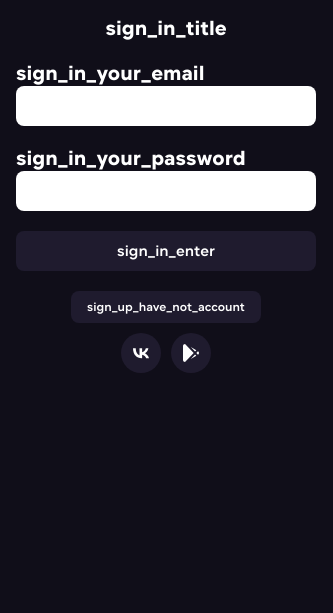
Test: Test Auth Form › check correct title after switch state
Expected: the heading "sign_in_title" is shown, [105, 16, 227, 40]
Click the button with test id "auth-switch-form-btn".
click(166, 307)  # box [71, 291, 261, 323]
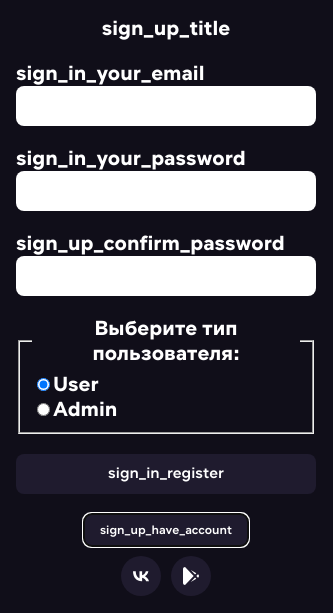
Now the heading "sign_up_title" is shown, box [102, 16, 230, 40]
